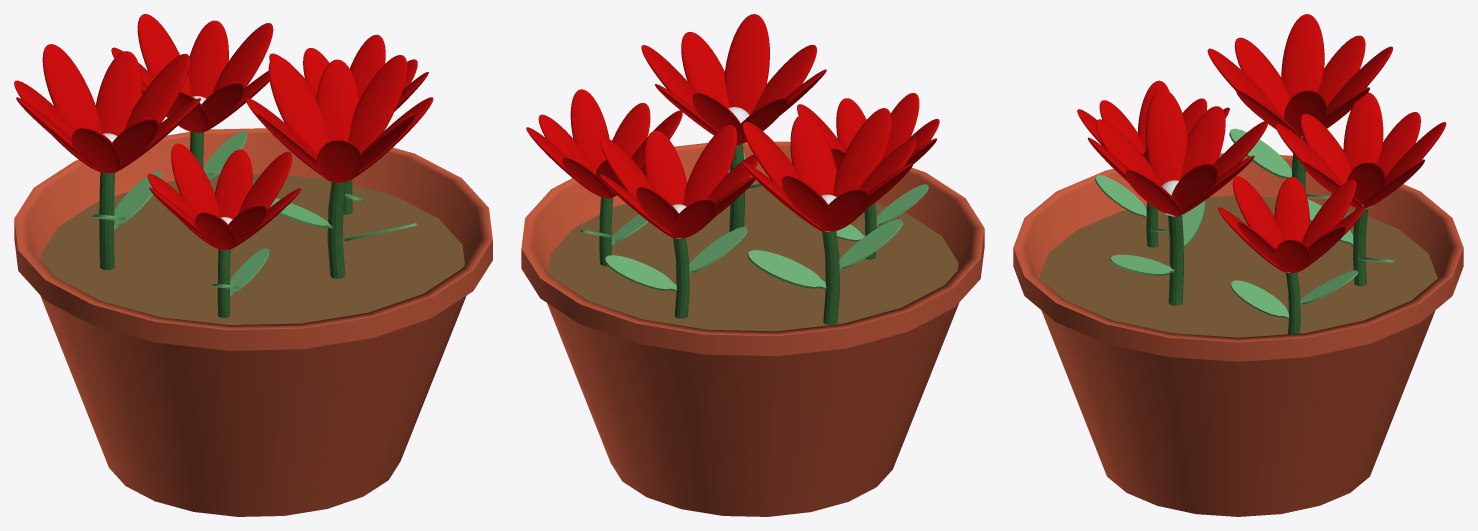
Rendered from flower pot.fbx.
3 views of the same model, side by side, from view 1: azimuth 30°, elevation 25°; view 2: azimuth 150°, elevation 25°; view 3: azimuth 270°, elevation 25° (orthographic). The views are drawn at different scales.
Parts seen in each view (by area): view 1: polySurface6; view 2: polySurface6; view 3: polySurface6.
Boxes of the visible parts, box(x1,y1,x2,y2) form: polySurface6: box(14, 14, 492, 516); polySurface6: box(521, 14, 984, 516); polySurface6: box(1013, 14, 1463, 516).
Size of the model in its own units: 4.68 by 4.08 by 4.68.
